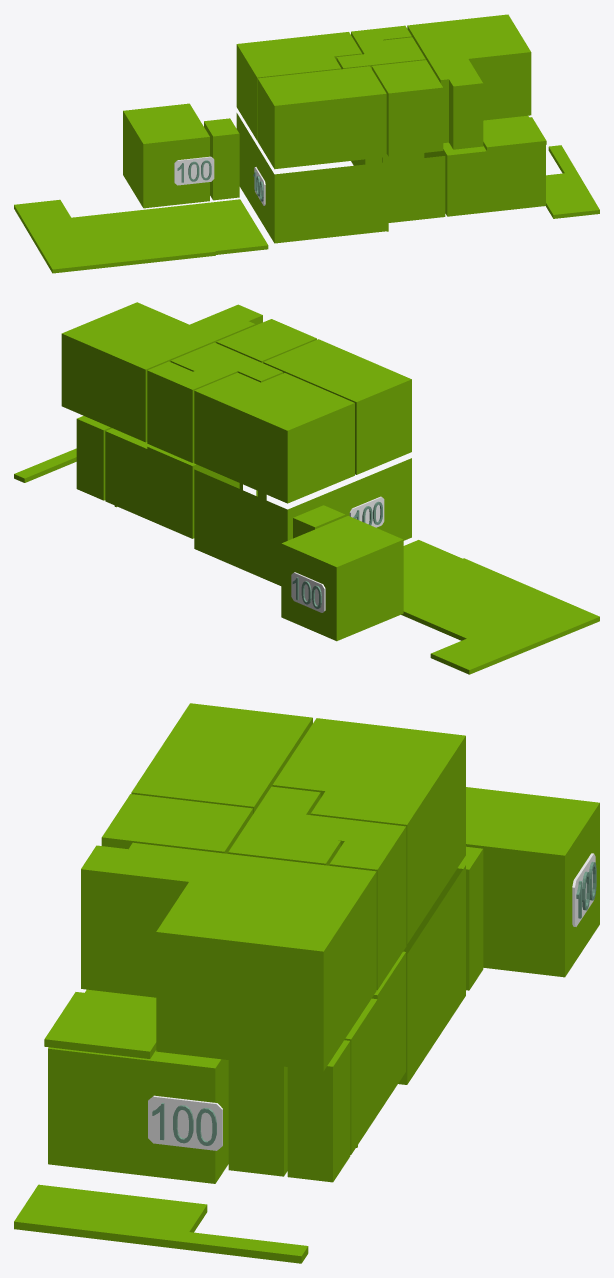
The picture shows the model from 3 angles, top to bottom: view 1: azimuth 30°, elevation 25°; view 2: azimuth 150°, elevation 25°; view 3: azimuth 270°, elevation 25°; orthographic projection. The views are drawn at different scales.
Parts seen in each view (by area): view 1: g_1, g_13, g_7, g_11, g_5, g_0, g_9, g_6, g_14, g_4, g_8, g_12 (+3 smaller); view 2: g_6, g_13, g_11, g_1, g_5, g_7, g_2, g_10, g_9, g_3, g_8, g_4 (+3 smaller); view 3: g_11, g_6, g_5, g_0, g_2, g_7, g_14, g_1, g_3, g_9, g_10, g_8 (+3 smaller).
Part boxes in pixels (x1,y1,x2,y2): g_1: (236,113,445,243); g_13: (14,199,268,273); g_7: (257,66,386,169); g_11: (407,14,531,149); g_5: (123,103,209,208); g_0: (424,115,545,216); g_9: (372,60,443,156); g_6: (236,32,362,140); g_14: (546,145,599,218); g_4: (204,118,239,200); g_8: (336,37,425,69); g_12: (483,117,546,151); g_6: (194,372,354,503); g_13: (401,540,599,674); g_11: (61,302,262,442); g_1: (194,458,411,585); g_5: (281,516,403,641); g_7: (263,339,411,474); g_2: (105,428,239,538); g_10: (147,361,217,462); g_9: (216,319,316,362); g_3: (76,416,111,500); g_8: (170,342,283,382); g_4: (293,505,345,538); g_11: (81,842,376,1071); g_6: (272,718,465,944); g_5: (466,787,599,977); g_0: (48,989,228,1183); g_2: (228,951,405,1176); g_7: (131,703,312,813); g_14: (14,1184,308,1263); g_1: (398,865,465,1084); g_3: (287,1040,350,1182); g_9: (101,794,252,853); g_10: (329,820,406,990); g_8: (228,786,350,865).
Size of the model in its own units: 20.09 by 5.35 by 10.58.
